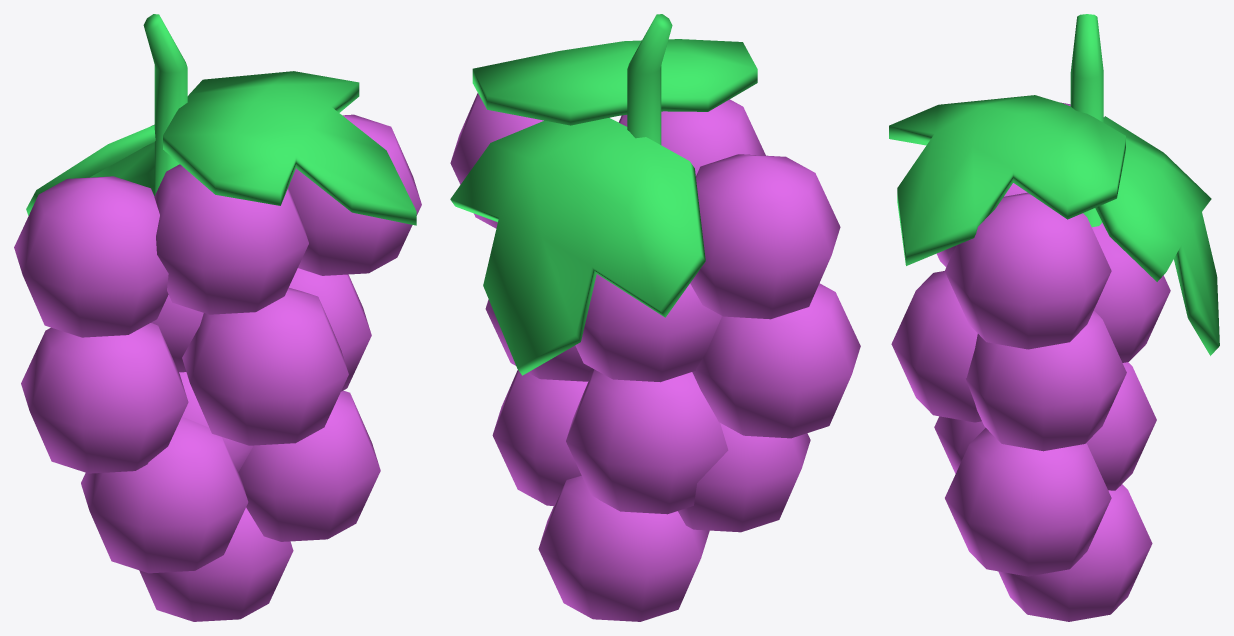
The model's file is uva_rossa_marcia.fbx.
3 views of the same model, side by side, from view 1: azimuth 30°, elevation 25°; view 2: azimuth 150°, elevation 25°; view 3: azimuth 270°, elevation 25° (orthographic). The views are drawn at different scales.
Visible parts, largest first — view 1: uva_rossa_marcia; view 2: uva_rossa_marcia; view 3: uva_rossa_marcia.
Part boxes in pixels (x1,y1,x2,y2): uva_rossa_marcia: [14, 14, 421, 621]; uva_rossa_marcia: [450, 14, 860, 621]; uva_rossa_marcia: [889, 14, 1219, 621].
Size of the model in its own units: 138 by 209 by 107.
